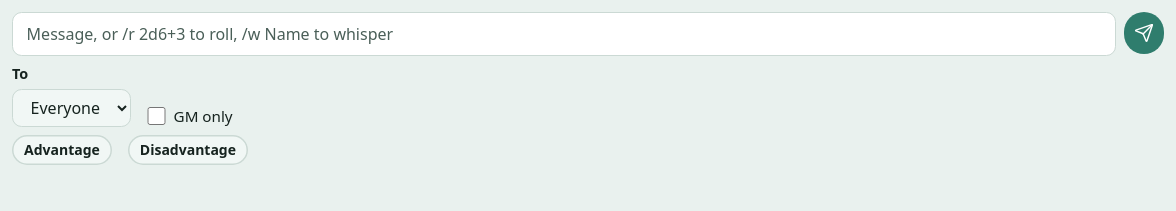
ChatComposer › turns /w Name message into a whisper, and explains an unknown name
Type "/w grace psst" into the field labelled "Message, or /r 2d6+3 to roll, /w Name to whisper" at (564, 34), box [12, 12, 1116, 56]
Then press Enter
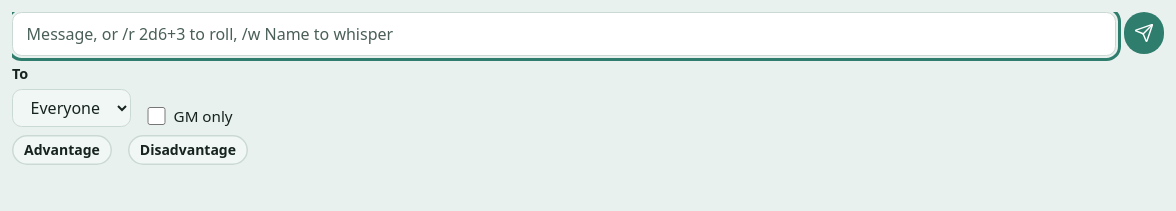
Type "/w Nobody hi" into the field labelled "Message, or /r 2d6+3 to roll, /w Name to whisper" at (564, 34), box [12, 12, 1116, 56]
Then press Enter
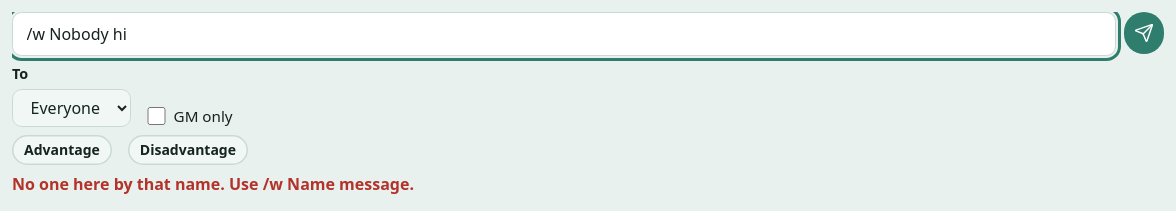
Check: the message shows "No one here by that name", box [12, 173, 414, 195]
